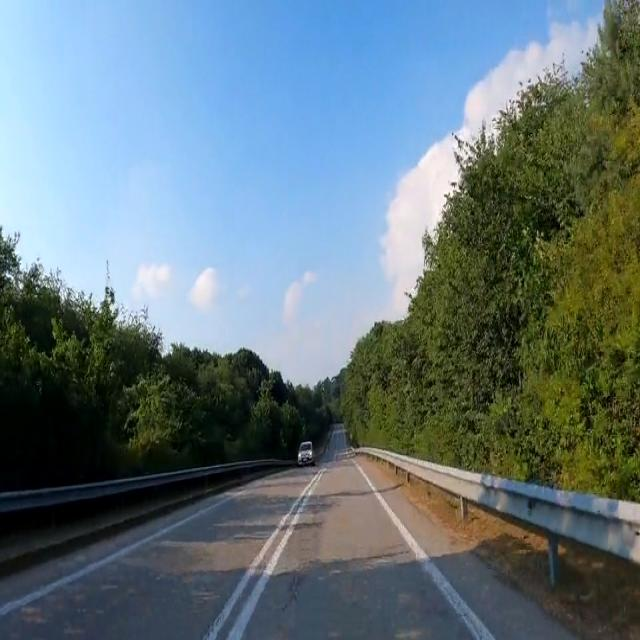lane: (0, 499, 231, 617), (354, 462, 494, 639), (204, 482, 312, 640), (227, 468, 324, 639)
road: (0, 427, 569, 640)
